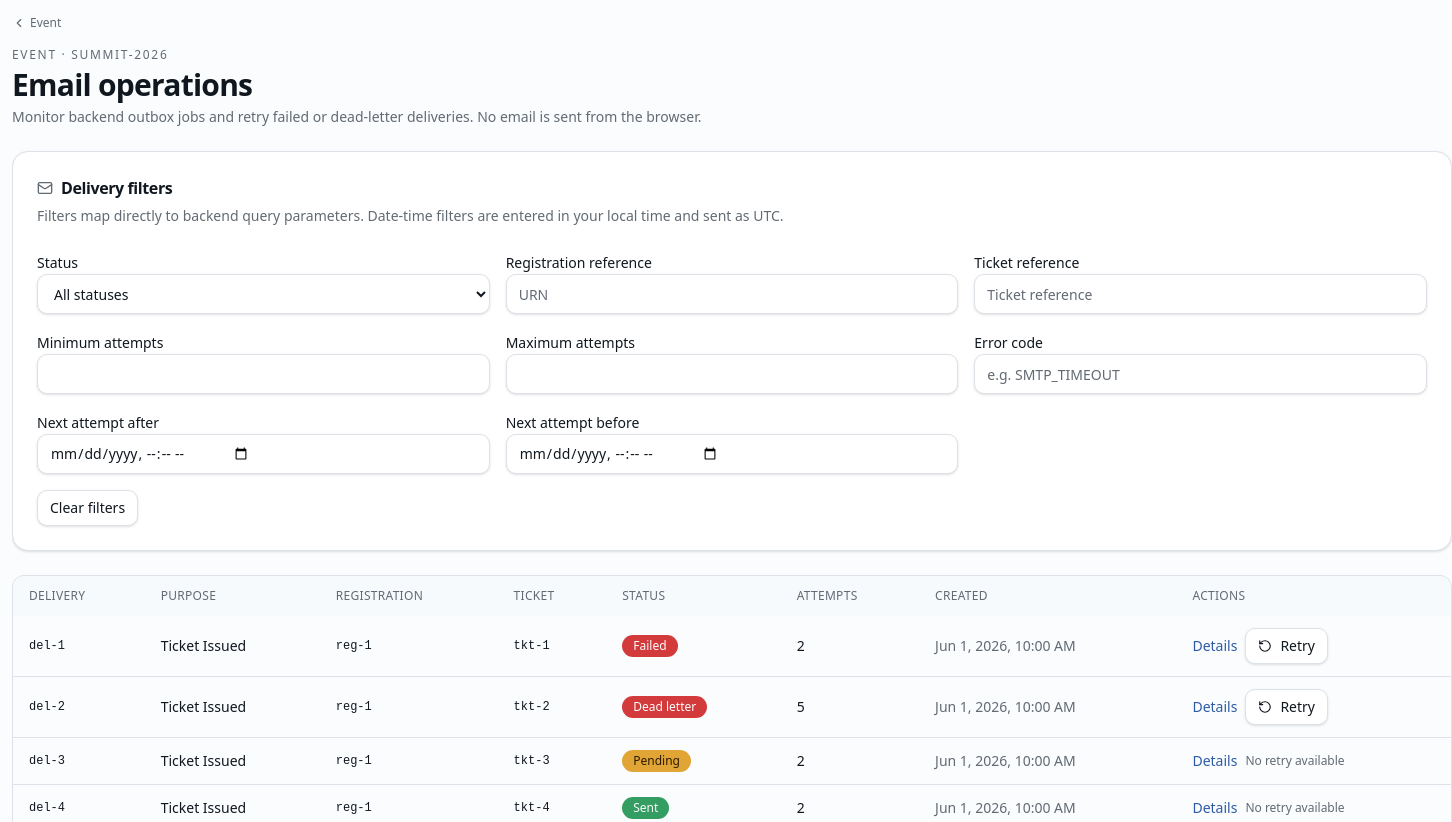
Test: email delivery operations › rejects invalid filter values before requesting a page
Expected: the text "del-1" is shown, [13,616,145,676]
Type "21" into the number field labelled "Minimum attempts".
click(263, 374); type("21")  # box [37,354,490,394]
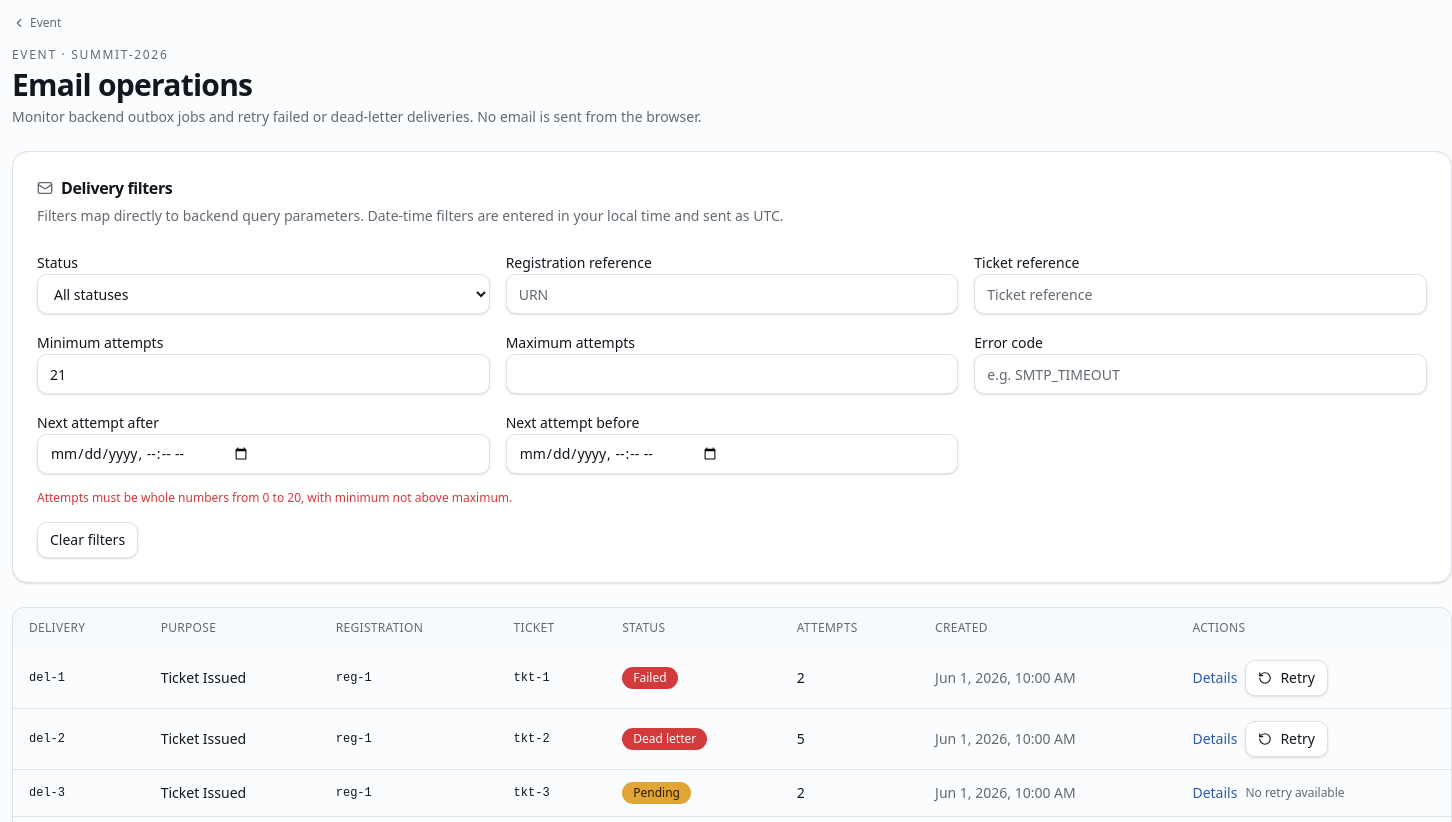
Result: the text "Attempts must be whole numbers from 0 to 20, with minimum not above maximum." is shown at [37,489,512,506]
